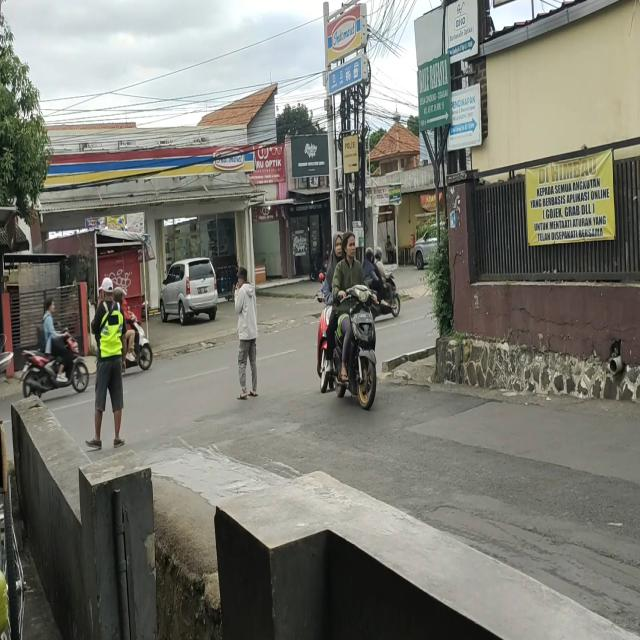helmet: (114, 289, 126, 303), (365, 248, 374, 262), (376, 247, 382, 259)
no-helmet: (344, 232, 357, 258), (332, 232, 343, 258), (46, 297, 56, 313)
